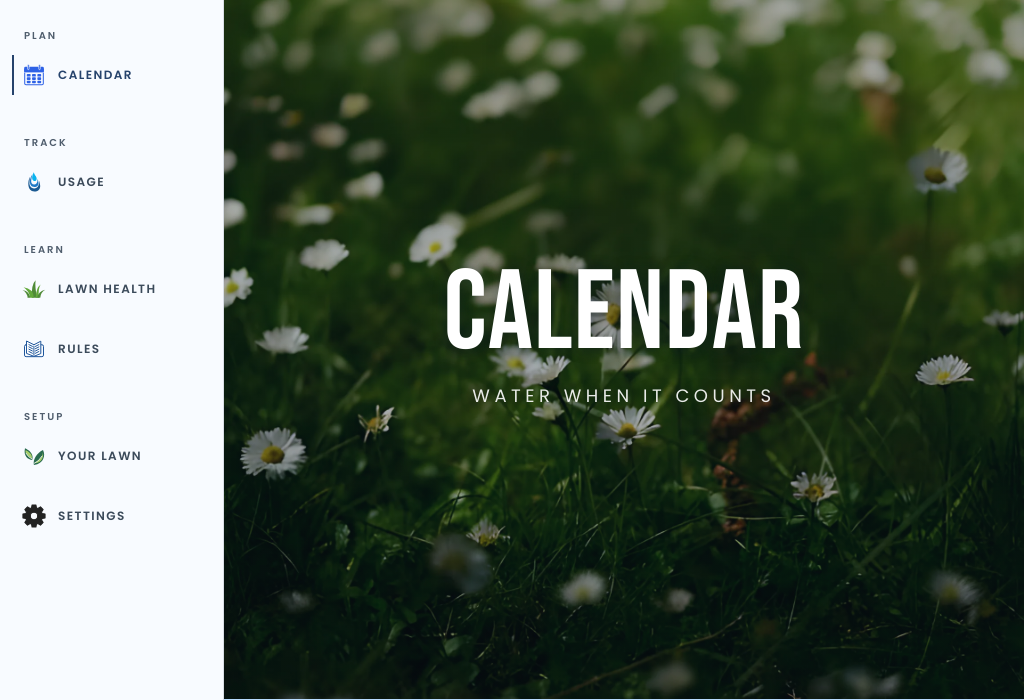
Test: Municipal Rules tab › starts a rule from a template as unverified, and the rule then blocks days
Click the button "Rules". click: [112, 349]
box: [12,329,211,369]
(page scrolled)
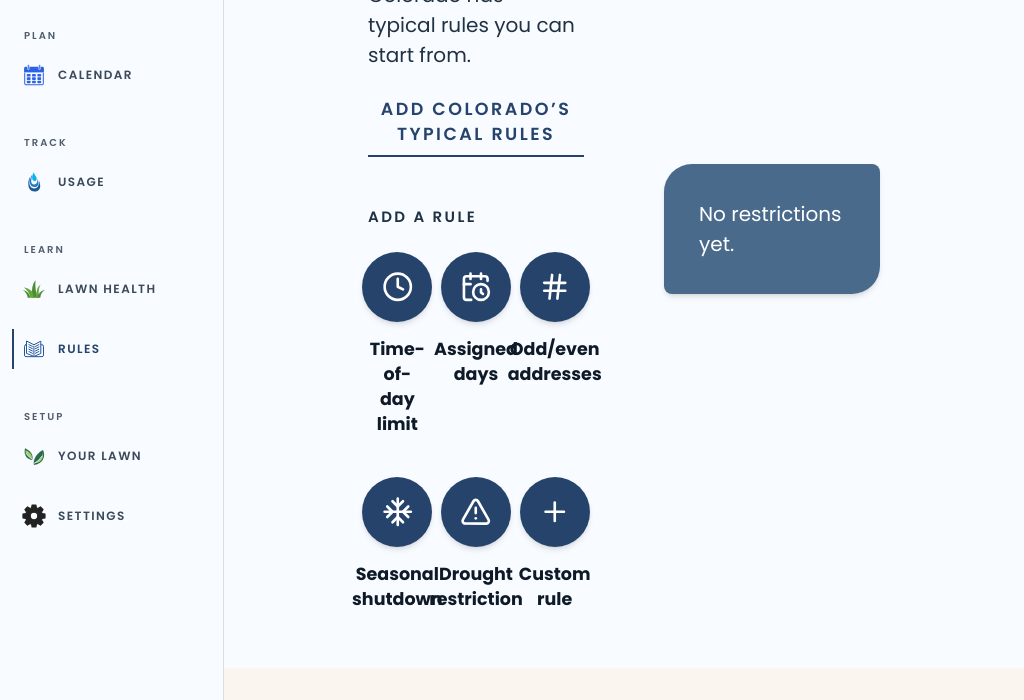
Click the button "Seasonal shutdown". click: [397, 544]
box: [368,477,427,612]
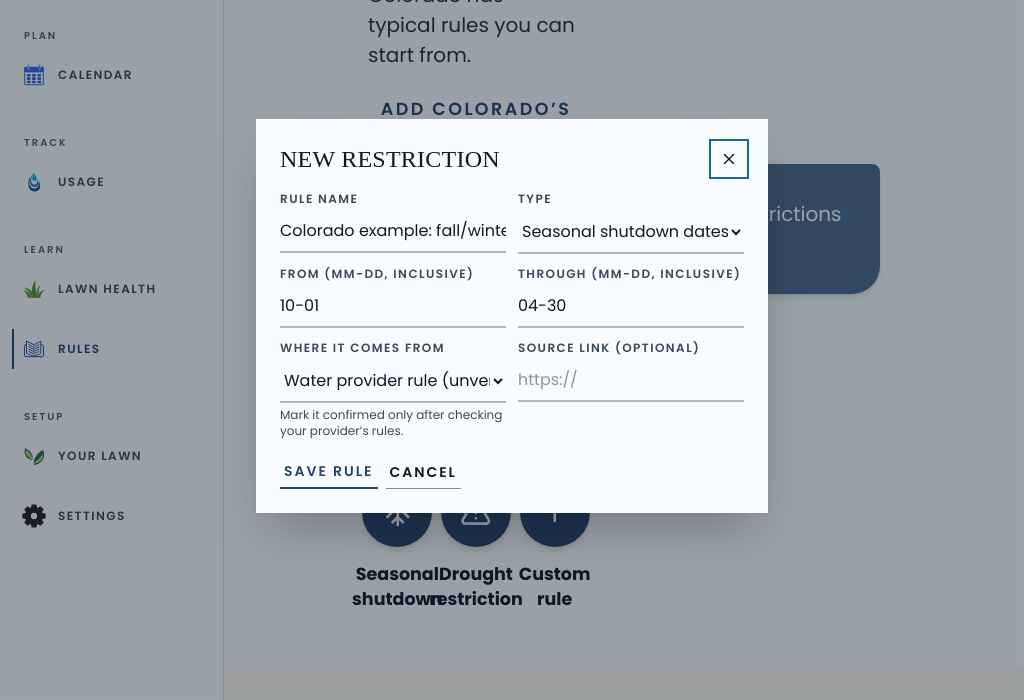
Now the dropdown labelled "Where it comes from" shows "Water provider rule (unverified)", box [280,360,506,403]
Click the button "Save rule". click: [329, 472]
box: [280,455,378,489]
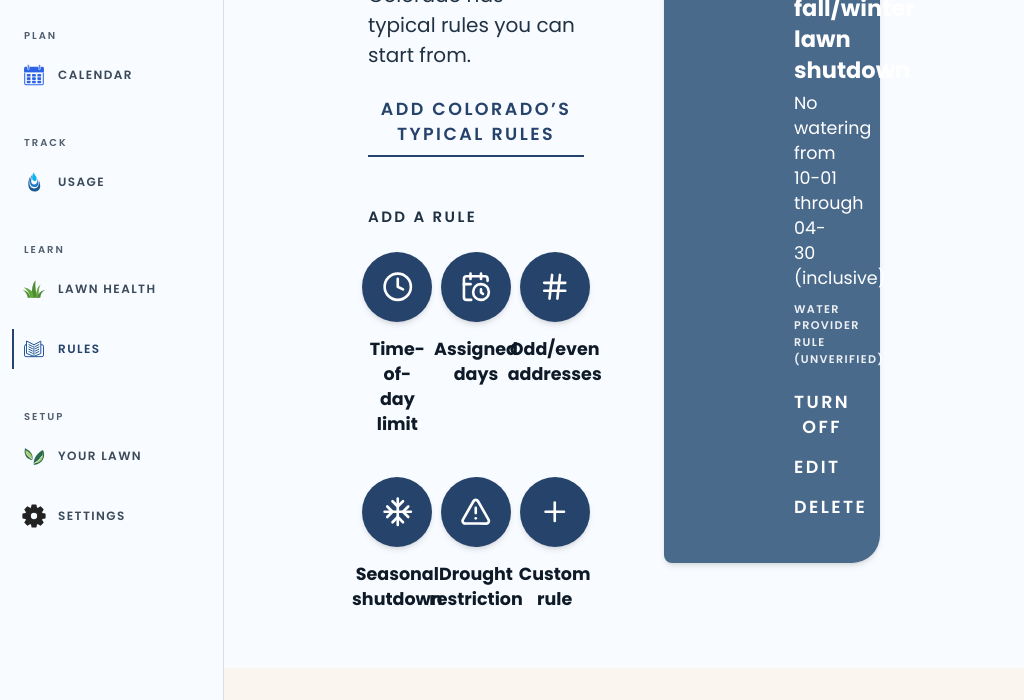
Now the dialog is gone
Now the text "Water provider rule (unverified)" is shown, box [794,301,845,368]
